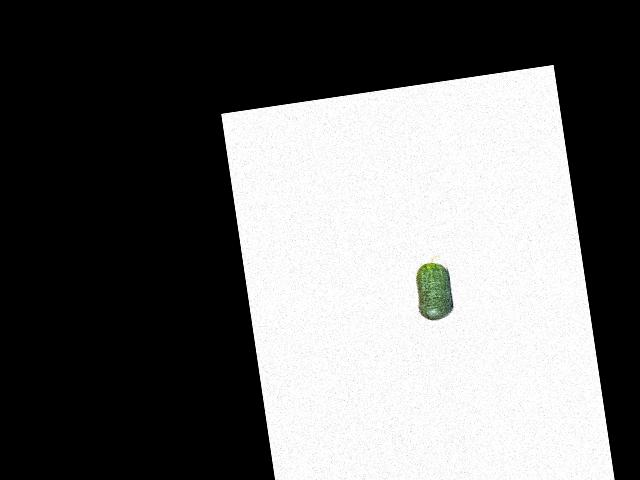cucumber: (411, 253, 455, 321)
